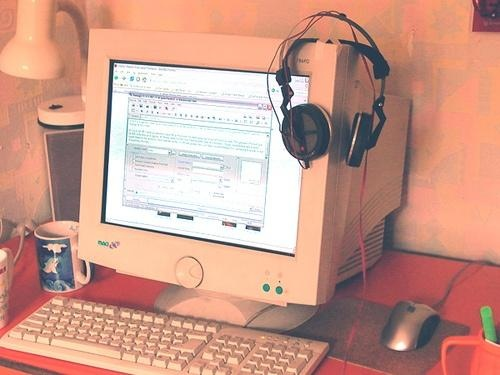tvmonitor: (76, 29, 415, 336)
